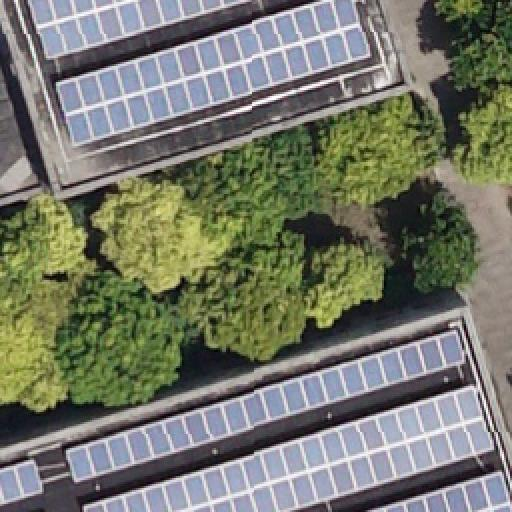solar-panel: (64, 328, 468, 480), (82, 384, 498, 512), (56, 0, 372, 144), (25, 1, 247, 63), (364, 468, 512, 512), (1, 455, 47, 505)
